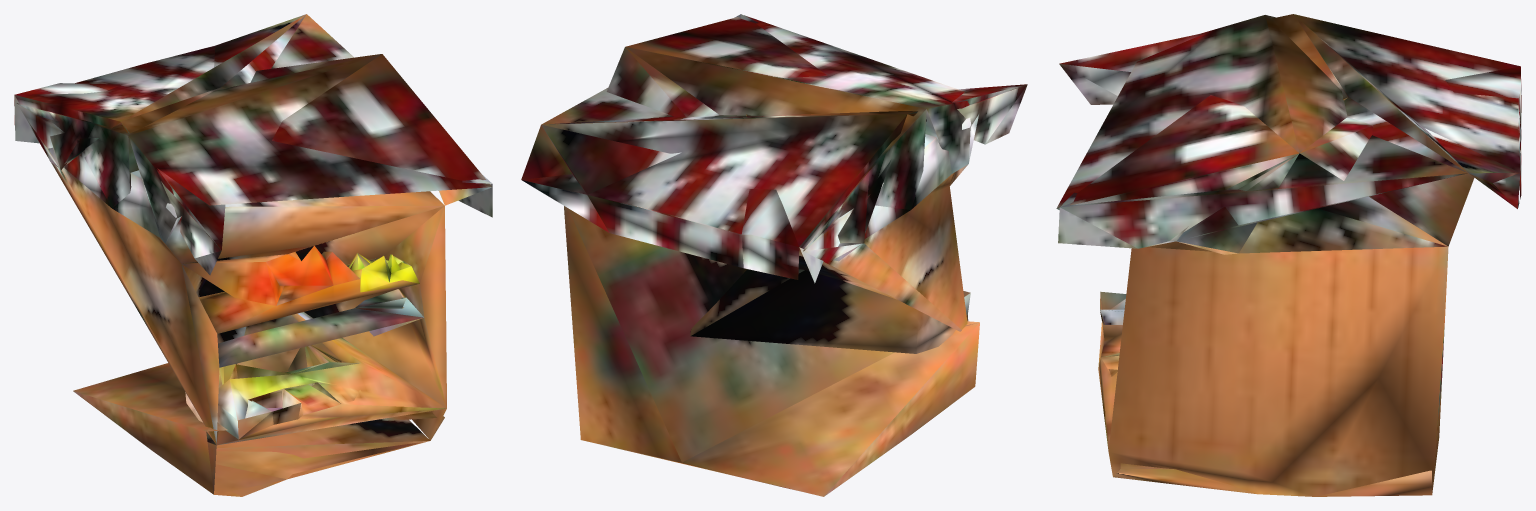
File: kiosk-red-far.glb
The picture shows the model from 3 angles, left to right: view 1: azimuth 30°, elevation 25°; view 2: azimuth 150°, elevation 25°; view 3: azimuth 270°, elevation 25°; orthographic projection. The views are drawn at different scales.
Visible parts, largest first — view 1: kiosk-far; view 2: kiosk-far; view 3: kiosk-far.
Part boxes in pixels (<box>): kiosk-far: <box>14,14,492,496</box>; kiosk-far: <box>521,14,1027,496</box>; kiosk-far: <box>1056,14,1521,496</box>.
Bounding box in the file's own units: 2.97 × 3.31 × 3.96.
Materials: 1 (1 with a texture image).
